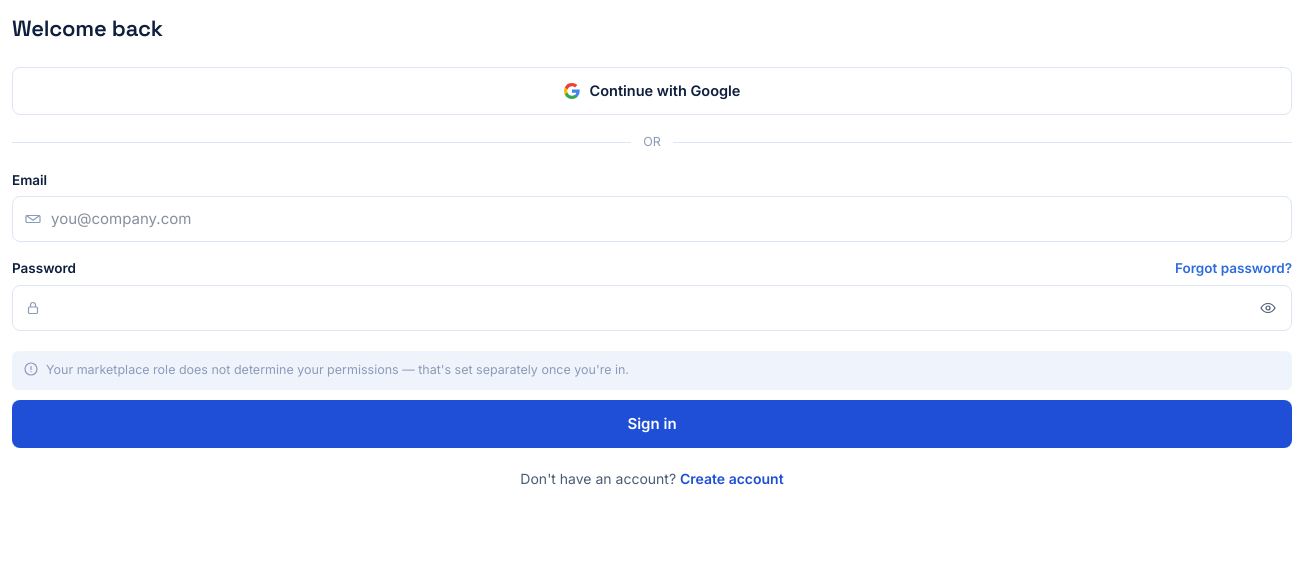
Test: Sign-in › backend down → error message, never 'sign up first'
Type "a@example.com" into the field labelled "Email" at (652, 219), box [12,196,1292,242]
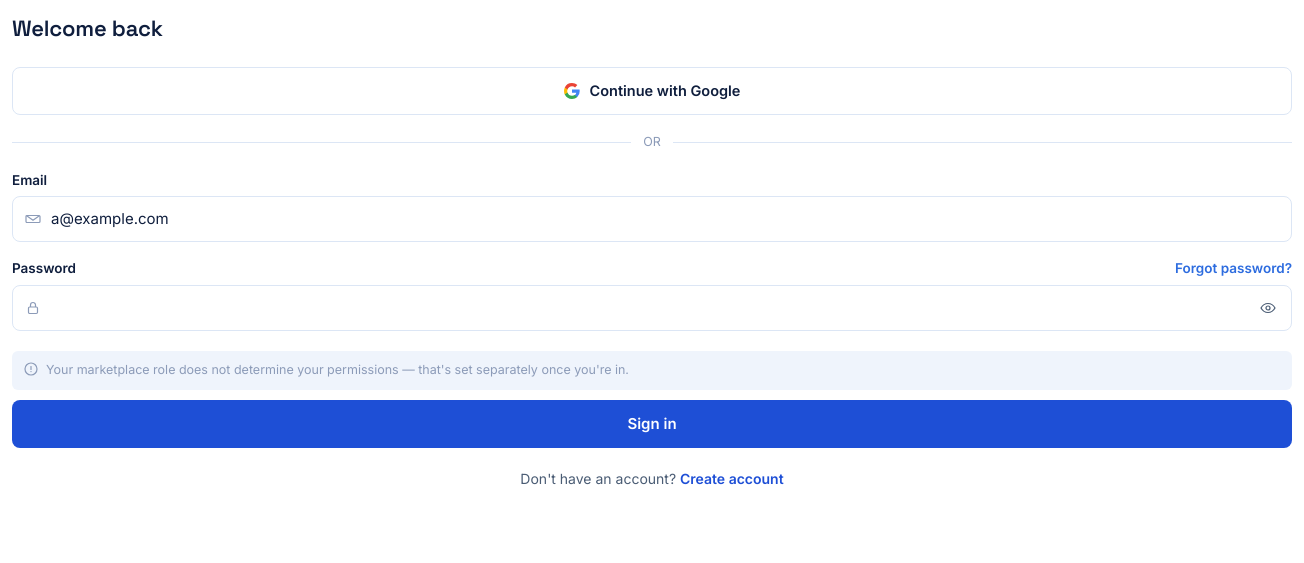
Type "correct-horse" into the password field labelled "Password" at (652, 308), box [12,284,1292,331]
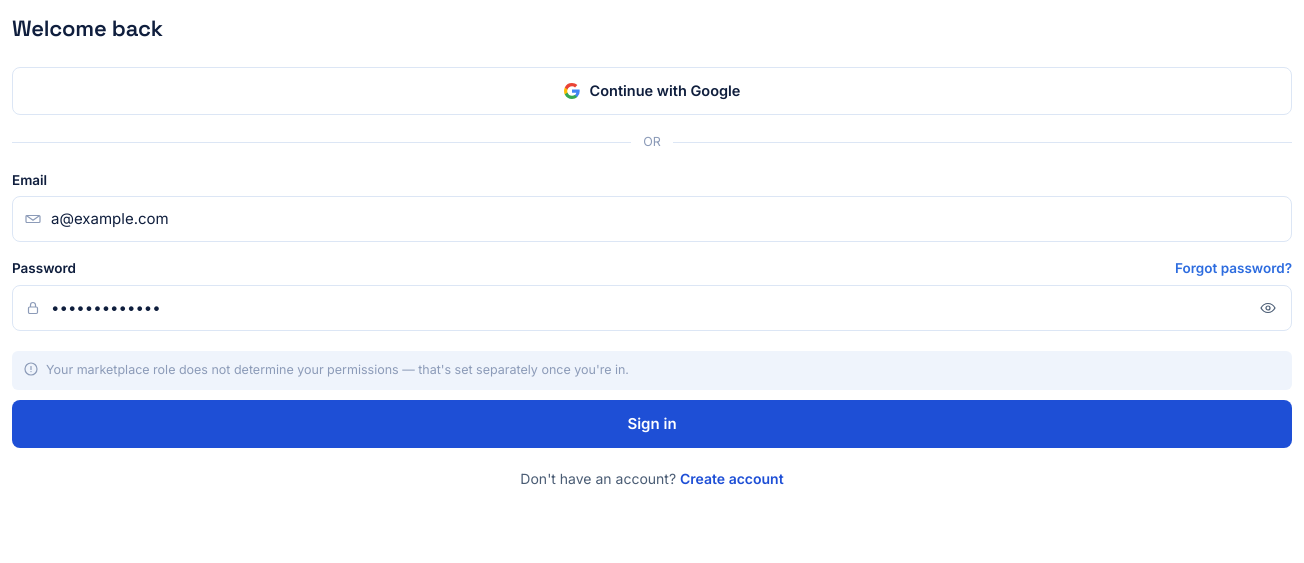
Click the button "Sign in" at (652, 424), box [12,400,1292,448]
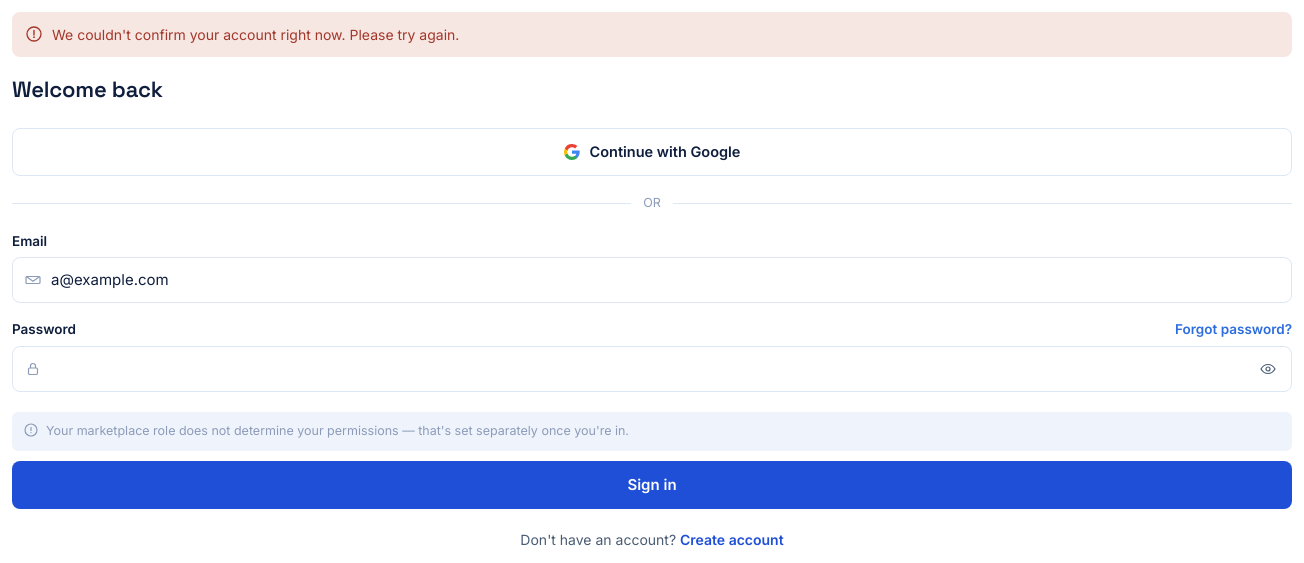
Expected: the text "We couldn't confirm your account right now. Please try again." is shown, [52,24,459,45]
